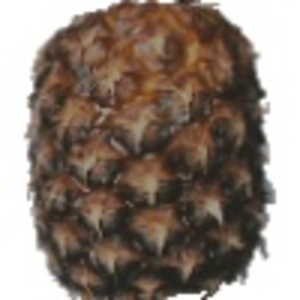abacaxi: (16, 2, 271, 292)
